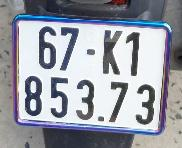1: (124, 29, 144, 80)
3: (128, 82, 160, 128), (74, 75, 96, 121)
5: (46, 72, 72, 119)
6: (37, 25, 58, 70)
7: (104, 77, 128, 124), (58, 24, 80, 71)
8: (21, 72, 45, 117)
K: (96, 27, 125, 78)
